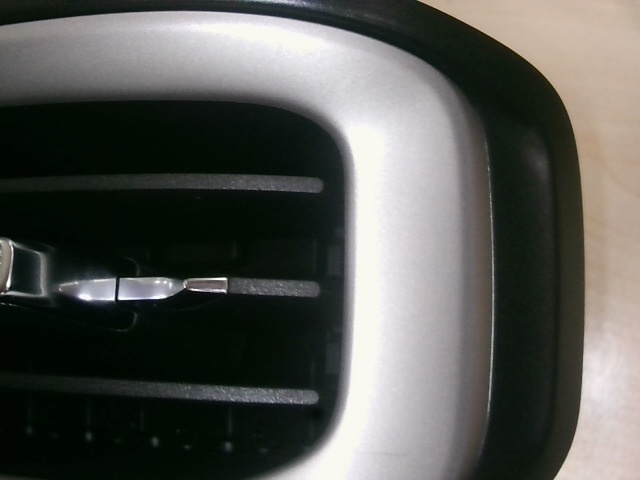NG: (347, 436, 432, 474)
